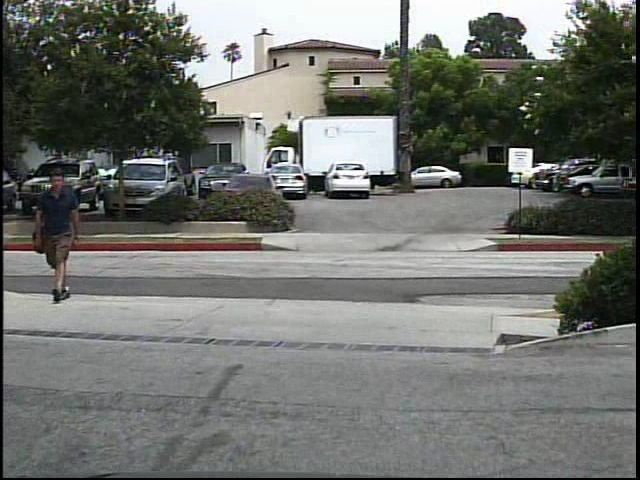person: (34, 168, 87, 308)
